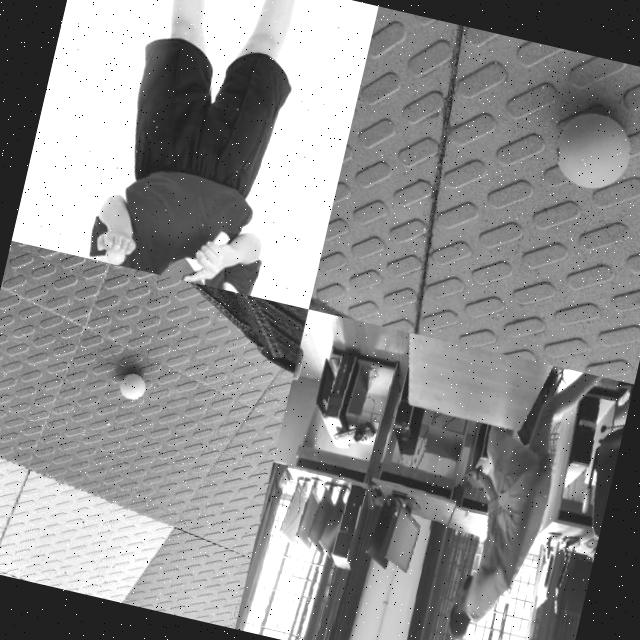ping-pong-ball: (546, 106, 638, 196), (116, 370, 146, 400), (104, 244, 124, 264), (462, 508, 468, 518)
